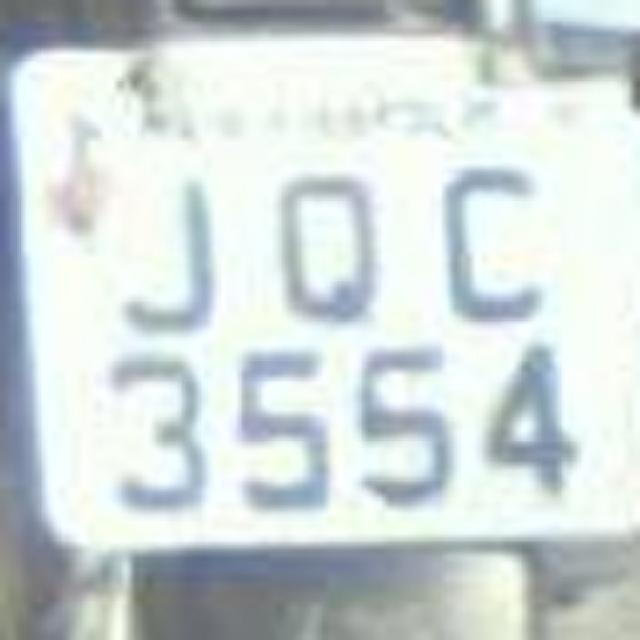3: (60, 332, 252, 536)
4: (448, 308, 608, 524)
5: (188, 328, 372, 520), (316, 320, 492, 512)
C: (412, 131, 572, 324)
J: (80, 149, 232, 356)
O: (248, 144, 404, 336)
